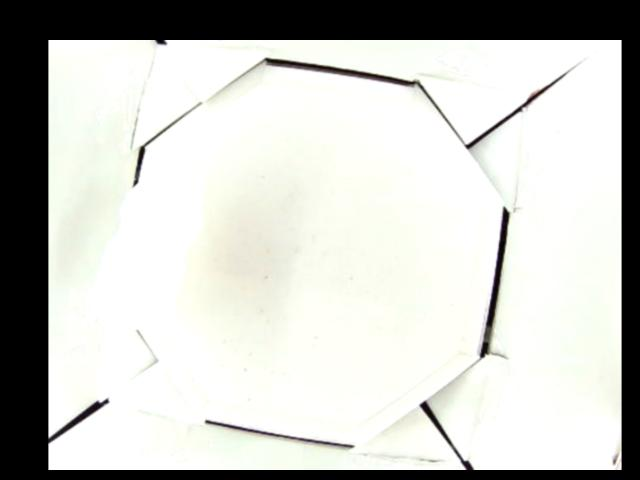Bottle: (97, 165, 201, 331)
